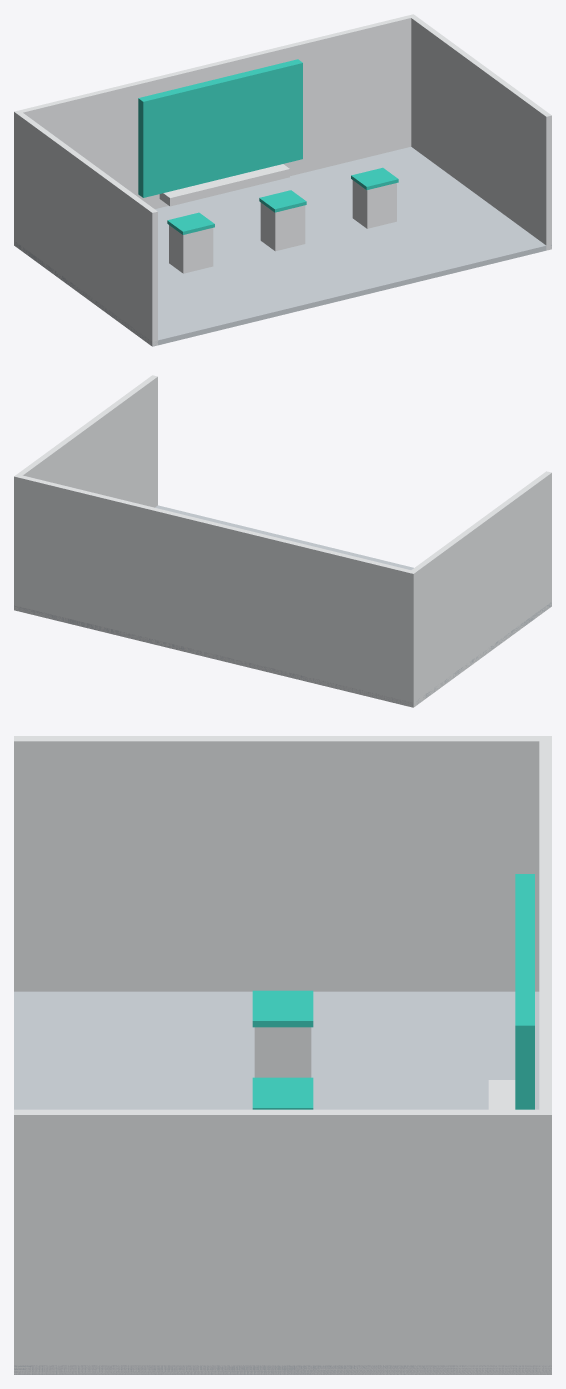
3 views of the same model, one above another, from view 1: azimuth 30°, elevation 25°; view 2: azimuth 150°, elevation 25°; view 3: azimuth 270°, elevation 25° (orthographic). The views are drawn at different scales.
Visible parts, largest first — view 1: Exhibition Booth Concept; view 2: Exhibition Booth Concept; view 3: Exhibition Booth Concept.
Part boxes in pixels (<box>): Exhibition Booth Concept: <box>14,14,551,346</box>; Exhibition Booth Concept: <box>14,375,551,707</box>; Exhibition Booth Concept: <box>14,736,551,1374</box>.
Bounding box in the file's own units: 10 × 3.2 × 6.
